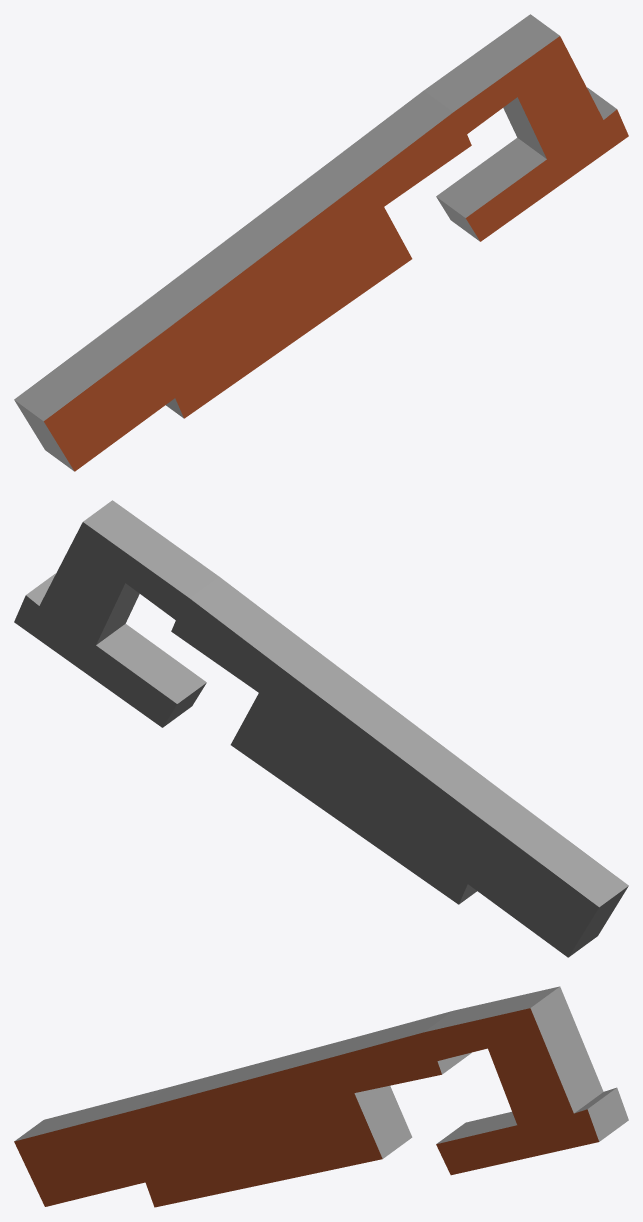
Rendered from construction_6329_assumed_A_Casa_h6m.obj.
3 views of the same model, one above another, from view 1: azimuth 30°, elevation 25°; view 2: azimuth 150°, elevation 25°; view 3: azimuth 330°, elevation 25° (orthographic).
Visible parts, largest first — view 1: construction_6329_assumed_A_Casa; view 2: construction_6329_assumed_A_Casa; view 3: construction_6329_assumed_A_Casa.
Part boxes in pixels (x1,y1,x2,y2): construction_6329_assumed_A_Casa: (14,14,628,471); construction_6329_assumed_A_Casa: (14,500,628,957); construction_6329_assumed_A_Casa: (14,986,628,1207).
Bounding box in the file's own units: 68.28 × 35.39 × 6.
